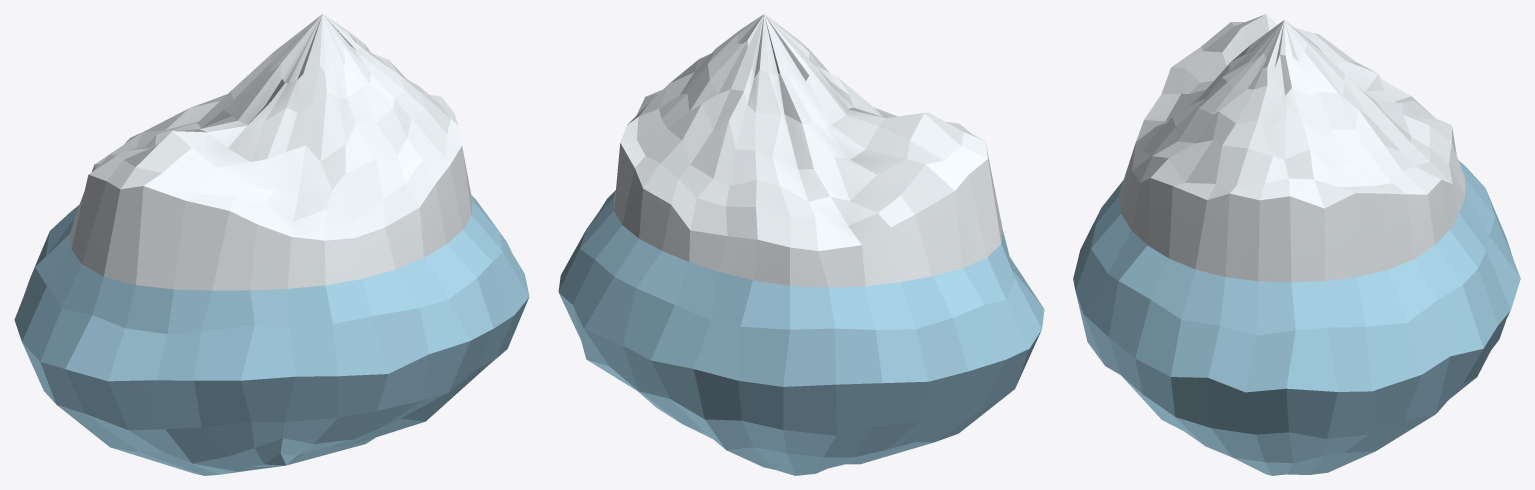
The model's file is iceberg.glb.
3 views of the same model, side by side, from view 1: azimuth 30°, elevation 25°; view 2: azimuth 150°, elevation 25°; view 3: azimuth 270°, elevation 25° (orthographic). The views are drawn at different scales.
Visible parts, largest first — view 1: under, top; view 2: under, top; view 3: under, top.
Boxes of the visible parts, x1,y1,x2,y2 form: under: (14,195,529,475); top: (70,14,472,290); under: (558,190,1044,475); top: (614,14,1002,287); under: (1073,160,1520,475); top: (1118,14,1465,282).
Bounding box in the file's own units: 7.75 × 7.1 × 6.37.
